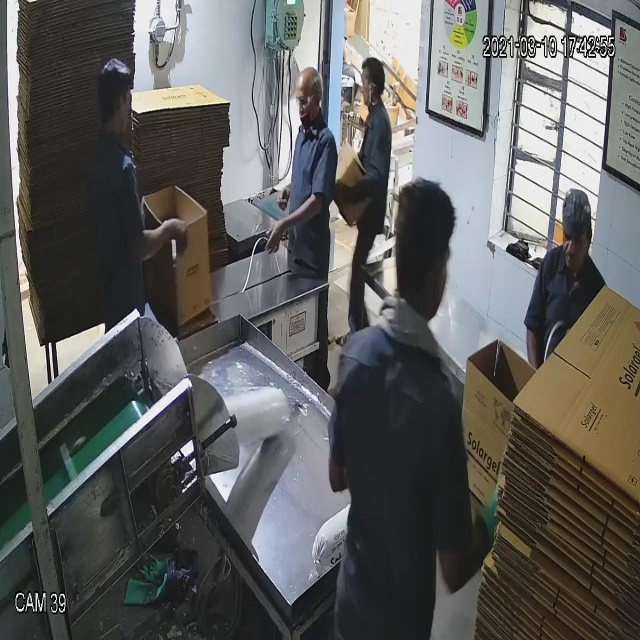Sin_guantes: (118, 199, 202, 275), (261, 188, 332, 265)
